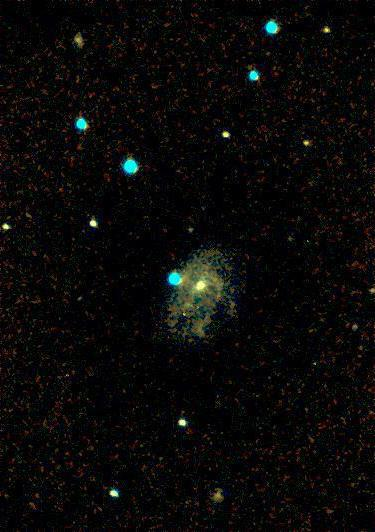star: (277, 224, 307, 254)
